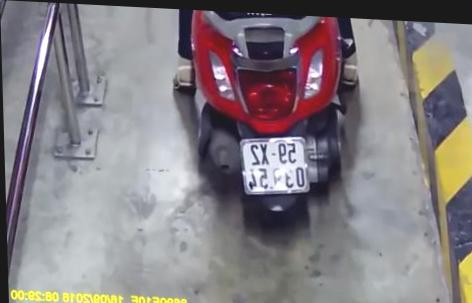License_Plate: (233, 130, 315, 201)
